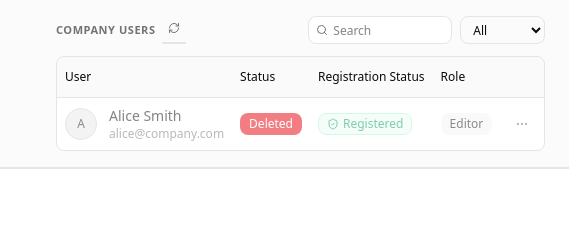
Test: CompanyUsersRow — status action menu › offers Restore user (not Activate) for a user removed from the org
Check: the text "Alice Smith" is shown, box [109,106,182,124]
Click the button named "Actions for Alice Smith" at (522, 124), box [508,110,536,138]
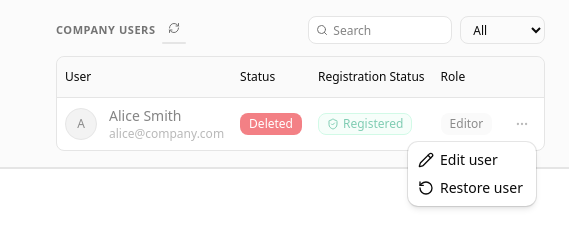
Check: the menu item "Restore user" is shown, box [412,174,532,202]
